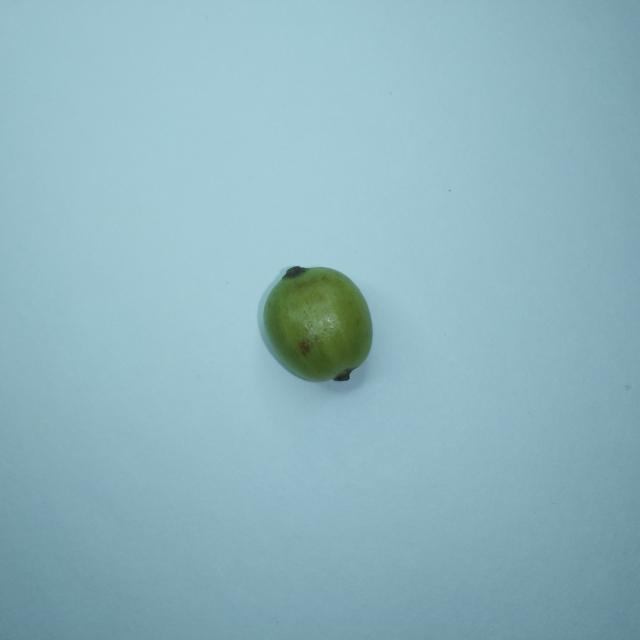Sano: (261, 267, 372, 381)
